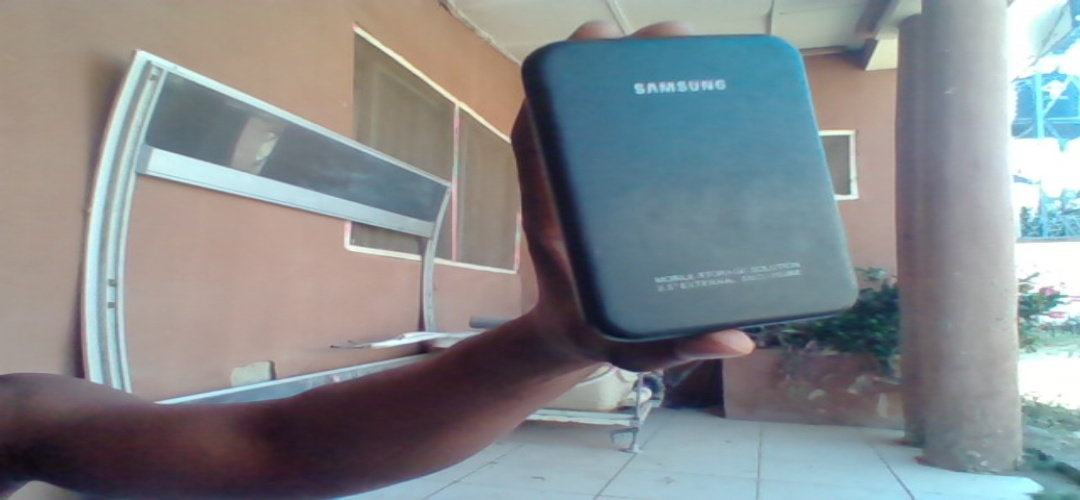hard_disk_case: (524, 41, 862, 332)
